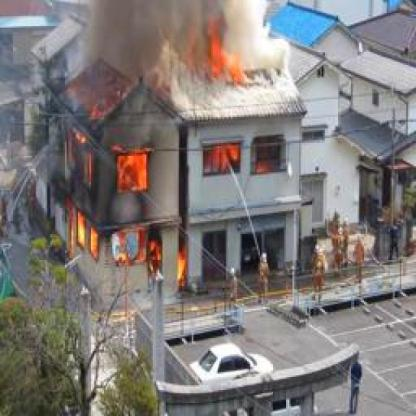fire: (198, 16, 258, 85), (117, 152, 151, 194), (203, 137, 240, 175), (145, 238, 164, 280), (176, 242, 191, 292), (77, 210, 88, 249), (89, 230, 99, 258)
